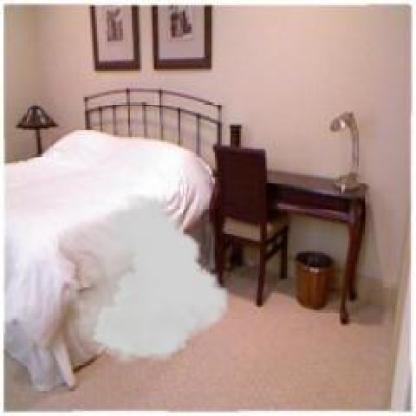Smoke: (68, 194, 228, 364)
